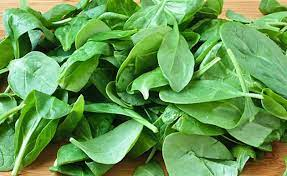spinach: (142, 22, 248, 117), (22, 20, 116, 126)
